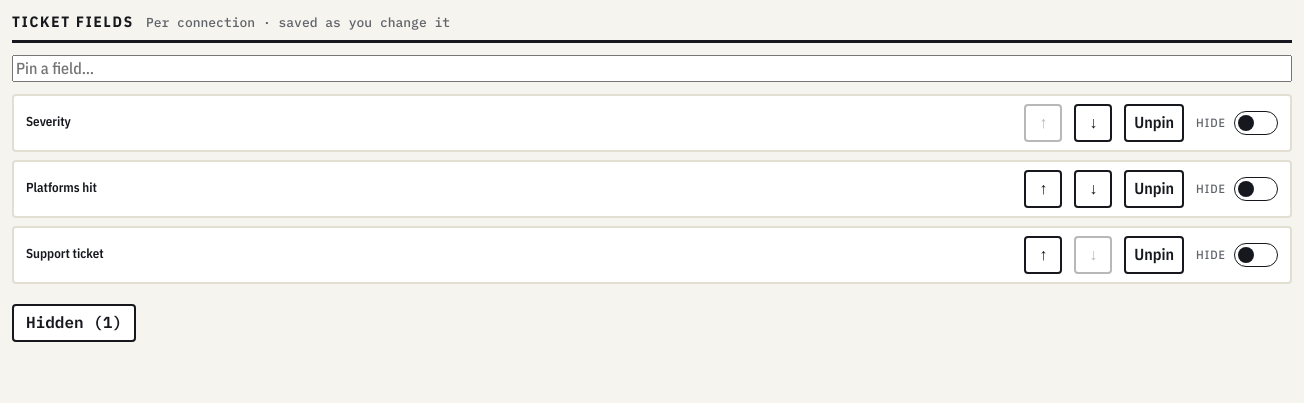
Test: TicketFieldsSection: hide › keeps hidden fields out of the DOM until the 'Hidden (n)' disclosure is opened
Check: the heading "Ticket fields" is shown, box x1=12 y1=12 x2=134 y2=32
Check: the text "Rollout" is not shown
Click the button "Hidden (1)".
click(74, 323)  # box x1=12 y1=304 x2=136 y2=342
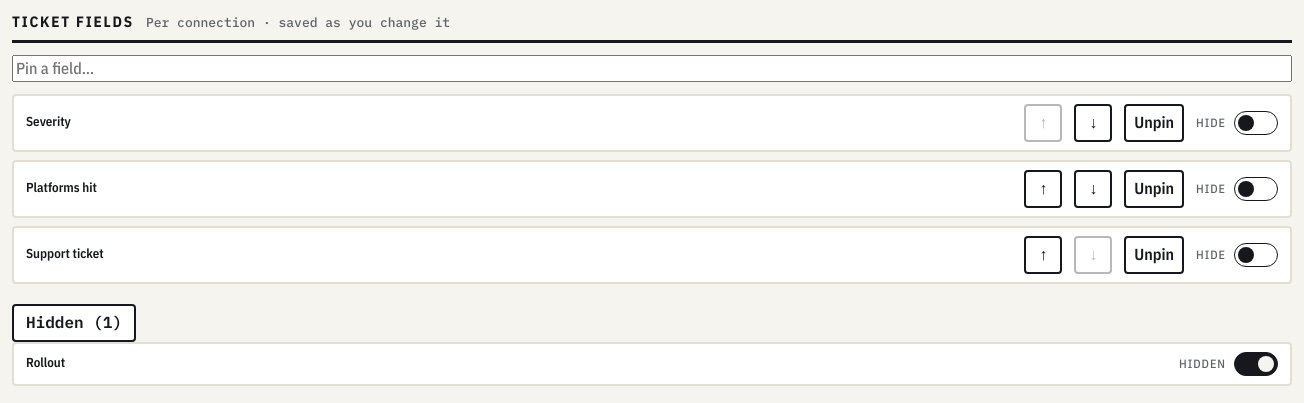
Check: the text "Rollout" is shown, box x1=26 y1=354 x2=65 y2=371
